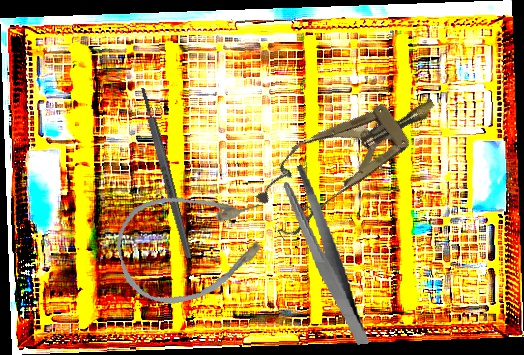Cannula: (109, 177, 277, 314)
Dressing Forceps: (280, 159, 371, 352)
Scalpel Handle: (138, 86, 194, 260)
Speculum: (243, 69, 455, 245)
